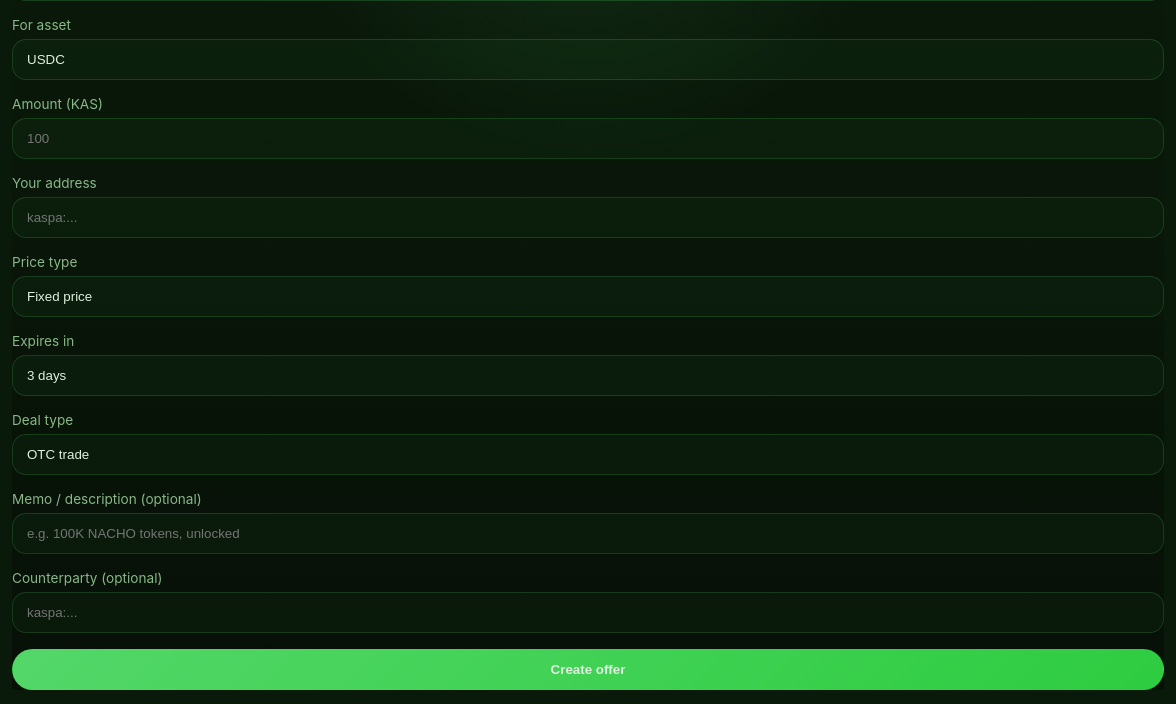
Test case: CreateOfferForm › shows error on invalid amount
(page scrolled)
Click the button "Create offer" at (588, 670), box [12,649,1164,690]
(page scrolled)
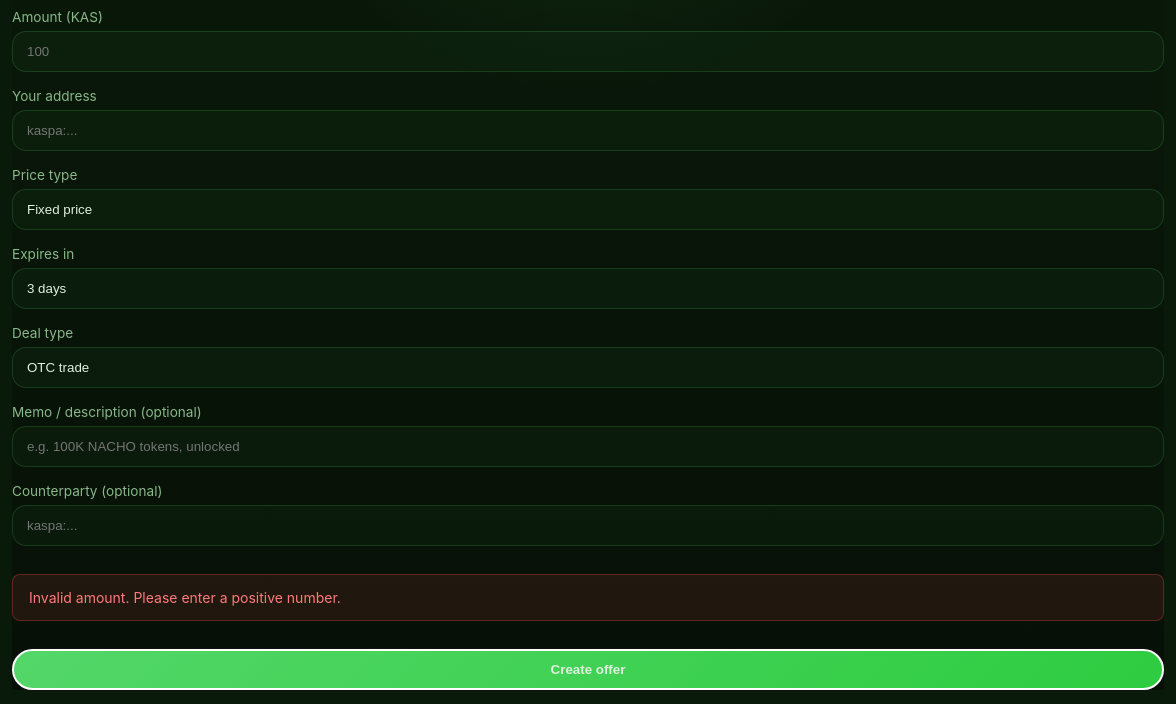
Result: the text "Invalid amount. Please enter a positive number." is shown at [12,574,1164,621]
